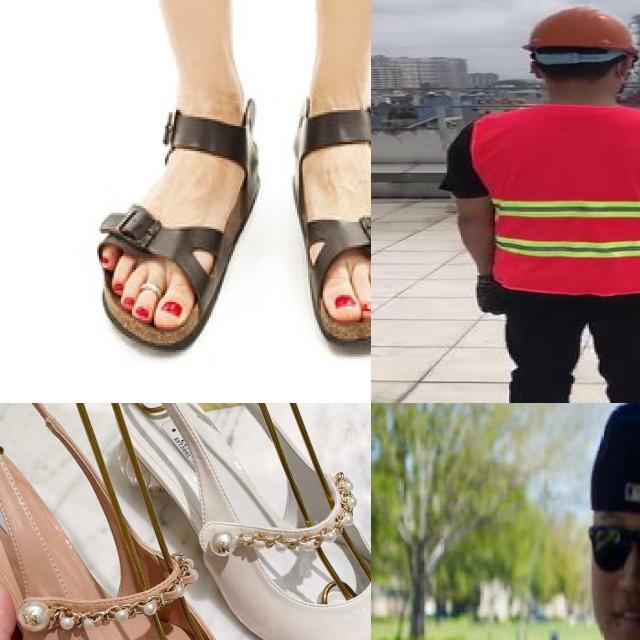Sandals: (0, 403, 310, 640), (118, 403, 371, 640), (289, 85, 371, 344)
face_nomask: (587, 525, 640, 634)
glasses: (583, 510, 640, 581)
hand_glove: (475, 275, 504, 316)
head_helmet: (524, 6, 634, 52)
head_nohelmet: (583, 403, 640, 526)
person: (432, 5, 640, 403), (478, 403, 640, 640)
vest: (471, 103, 640, 295)
